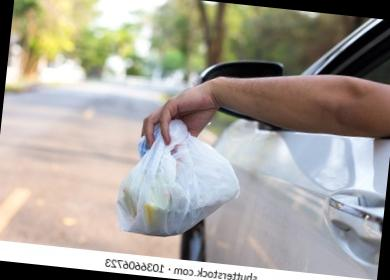road: (0, 85, 179, 257), (0, 237, 337, 280)
trash: (116, 120, 239, 236)
